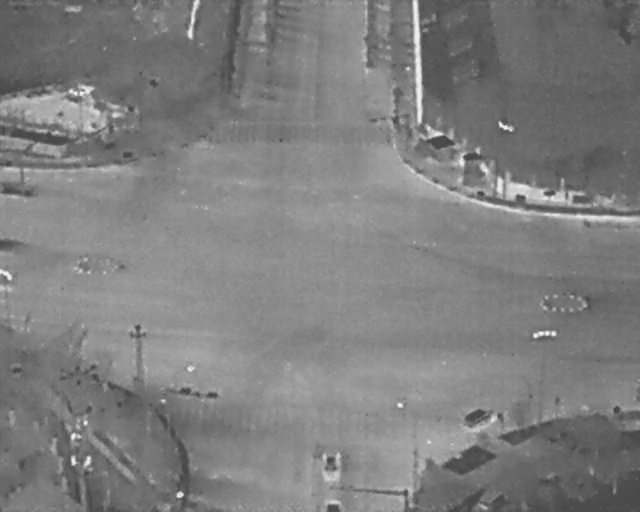Car: (455, 398, 503, 440), (319, 451, 343, 484), (324, 497, 343, 511)
